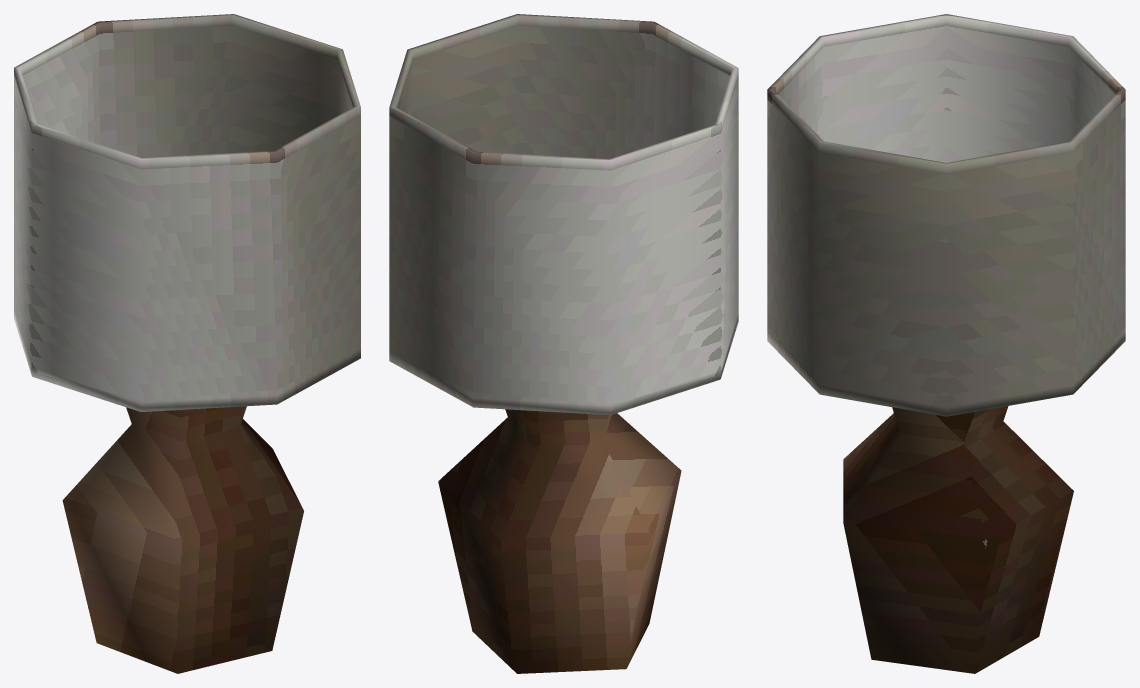
File: table_lamp_psx.glb
3 renders of one model, left to right at view 1: azimuth 30°, elevation 25°; view 2: azimuth 150°, elevation 25°; view 3: azimuth 270°, elevation 25°, orthographic.
Parts seen in each view (by area): view 1: Lamp Paper, Lamp; view 2: Lamp Paper, Lamp; view 3: Lamp Paper, Lamp.
Boxes of the visible parts, x1=… form: Lamp Paper: x1=14, y1=14, x2=360, y2=411; Lamp: x1=62, y1=406, x2=303, y2=673; Lamp Paper: x1=389, y1=14, x2=738, y2=415; Lamp: x1=438, y1=409, x2=681, y2=673; Lamp Paper: x1=767, y1=14, x2=1125, y2=416; Lamp: x1=843, y1=406, x2=1073, y2=673.
Size of the model in its own units: 0.3654 by 0.615 by 0.3654.
Materials: 1 (1 with a texture image).
